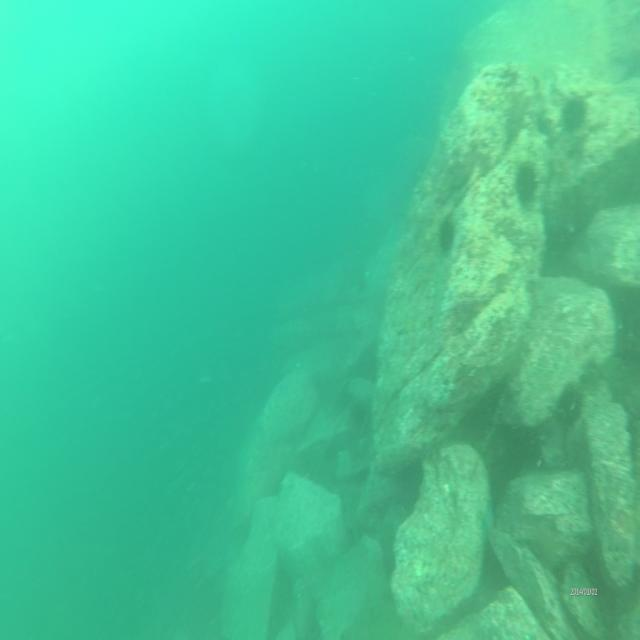echinus: (554, 378, 586, 434), (514, 159, 542, 207), (562, 90, 590, 137), (436, 217, 456, 256)
